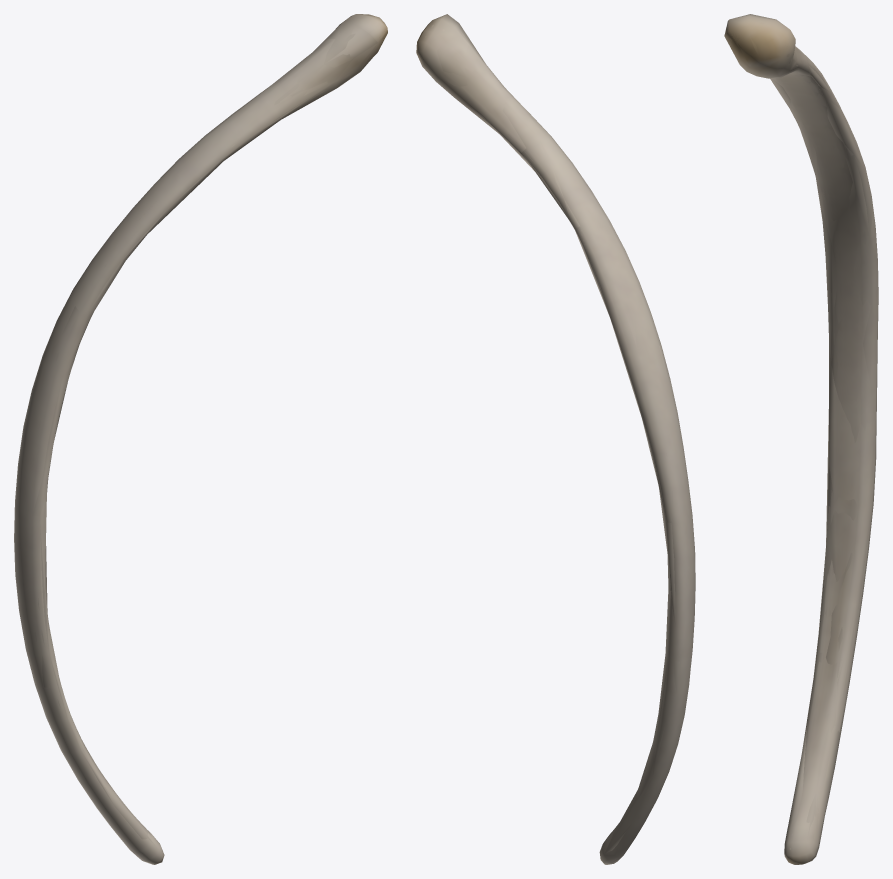
The model's file is Rib R11.fbx.
3 views of the same model, side by side, from view 1: azimuth 30°, elevation 25°; view 2: azimuth 150°, elevation 25°; view 3: azimuth 270°, elevation 25° (orthographic). The views are drawn at different scales.
Visible parts, largest first — view 1: Rib R11, Rib R11 low, Rib R11 high; view 2: Rib R11, Rib R11 low, Rib R11 high; view 3: Rib R11 low, Rib R11, Rib R11 high.
Boxes of the visible parts, x1=… form: Rib R11: x1=14, y1=14, x2=387, y2=864; Rib R11 low: x1=15, y1=14, x2=387, y2=859; Rib R11 high: x1=17, y1=15, x2=383, y2=856; Rib R11: x1=416, y1=14, x2=695, y2=864; Rib R11 low: x1=416, y1=15, x2=687, y2=863; Rib R11 high: x1=419, y1=24, x2=691, y2=852; Rib R11 low: x1=725, y1=17, x2=877, y2=848; Rib R11: x1=724, y1=14, x2=878, y2=864; Rib R11 high: x1=730, y1=17, x2=877, y2=849.
Size of the model in its own units: 7.59 by 18.4 by 2.68.
1 material, 1 textured.
